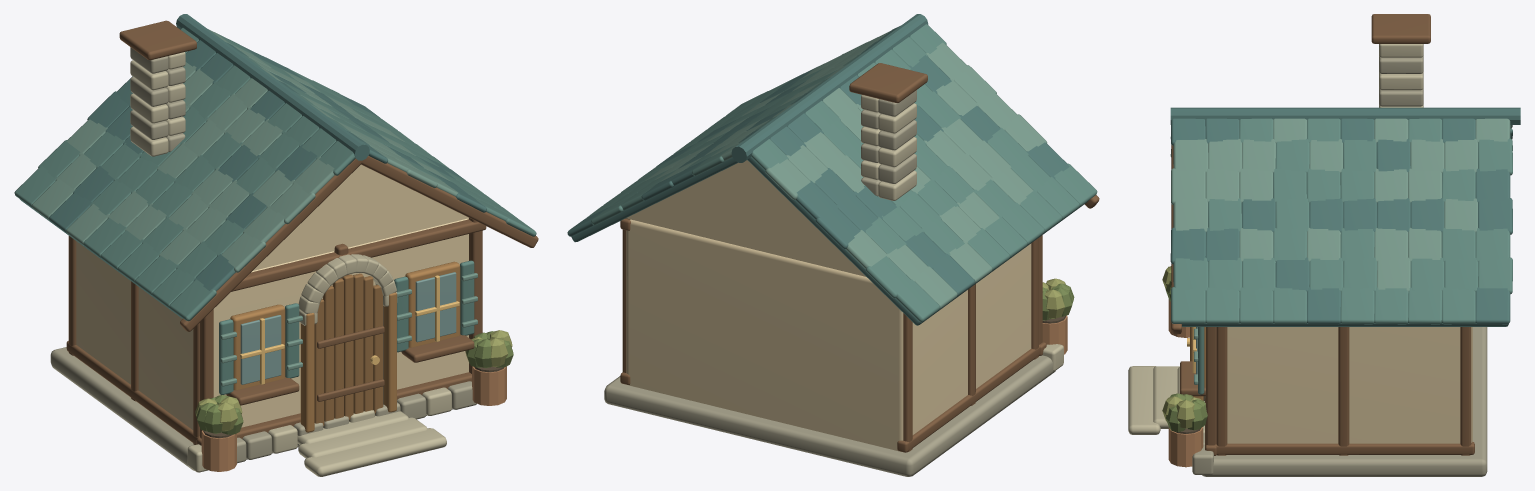
The model's file is storybook_home_v1.glb.
3 views of the same model, side by side, from view 1: azimuth 30°, elevation 25°; view 2: azimuth 150°, elevation 25°; view 3: azimuth 270°, elevation 25° (orthographic). The views are drawn at different scales.
Parts seen in each view (by area): view 1: Cottage_plaster, Cottage_roof, Cottage_roof_light, Cottage_timber, Cottage_roof_dark, Cottage_stone_light, Cottage_stone, Cottage_door, Cottage_oak, Cottage_glass, Cottage_pot, Cottage_leaf (+2 smaller); view 2: Cottage_plaster, Cottage_roof, Cottage_roof_light, Cottage_roof_dark, Cottage_stone, Cottage_timber, Cottage_stone_light, Cottage_pot, Cottage_leaf_light; view 3: Cottage_roof, Cottage_plaster, Cottage_roof_dark, Cottage_roof_light, Cottage_timber, Cottage_stone, Cottage_stone_light, Cottage_pot, Cottage_leaf, Cottage_leaf_light.
Boxes of the visible parts, left/top/right/bottom form: Cottage_plaster: left=76, top=164, right=468, bottom=429; Cottage_roof: left=14, top=28, right=536, bottom=394; Cottage_roof_light: left=31, top=29, right=477, bottom=386; Cottage_timber: left=66, top=20, right=538, bottom=445; Cottage_roof_dark: left=20, top=14, right=486, bottom=318; Cottage_stone_light: left=130, top=52, right=451, bottom=476; Cottage_stone: left=50, top=47, right=476, bottom=470; Cottage_door: left=314, top=273, right=383, bottom=426; Cottage_oak: left=230, top=261, right=460, bottom=432; Cottage_glass: left=240, top=272, right=456, bottom=384; Cottage_pot: left=201, top=366, right=506, bottom=471; Cottage_leaf: left=196, top=331, right=513, bottom=434; Cottage_plaster: left=626, top=160, right=1031, bottom=451; Cottage_roof: left=586, top=24, right=1097, bottom=322; Cottage_roof_light: left=645, top=30, right=1047, bottom=308; Cottage_roof_dark: left=567, top=14, right=1088, bottom=325; Cottage_stone: left=604, top=90, right=1055, bottom=476; Cottage_timber: left=620, top=63, right=1099, bottom=452; Cottage_stone_light: left=861, top=95, right=1063, bottom=371; Cottage_pot: left=1042, top=315, right=1067, bottom=354; Cottage_leaf_light: left=1042, top=278, right=1065, bottom=318; Cottage_roof: left=1170, top=118, right=1512, bottom=394; Cottage_plaster: left=1227, top=327, right=1472, bottom=443; Cottage_roof_dark: left=1170, top=107, right=1520, bottom=326; Cottage_roof_light: left=1170, top=118, right=1512, bottom=384; Cottage_timber: left=1171, top=14, right=1474, bottom=455; Cottage_stone: left=1192, top=55, right=1487, bottom=476; Cottage_stone_light: left=1128, top=44, right=1423, bottom=434; Cottage_pot: left=1168, top=299, right=1203, bottom=467; Cottage_leaf: left=1165, top=280, right=1207, bottom=431; Cottage_leaf_light: left=1162, top=266, right=1201, bottom=428.
Bounding box in the file's own units: 5.61 × 5.24 × 5.47.
